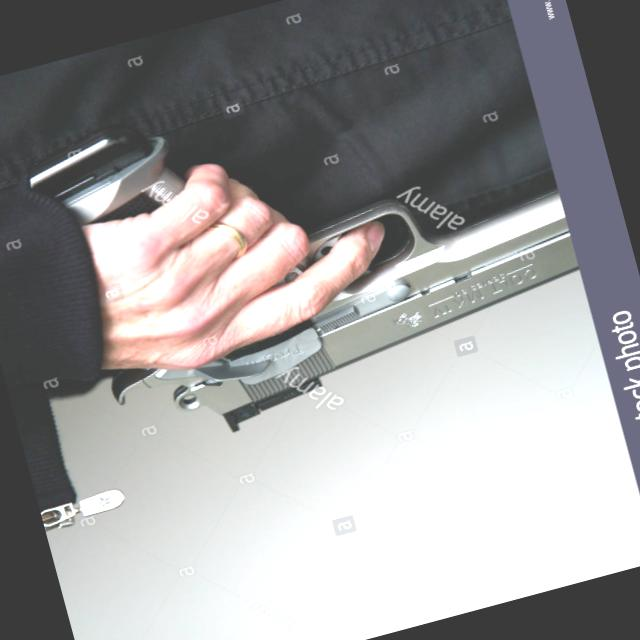handgun: (0, 14, 595, 476)
